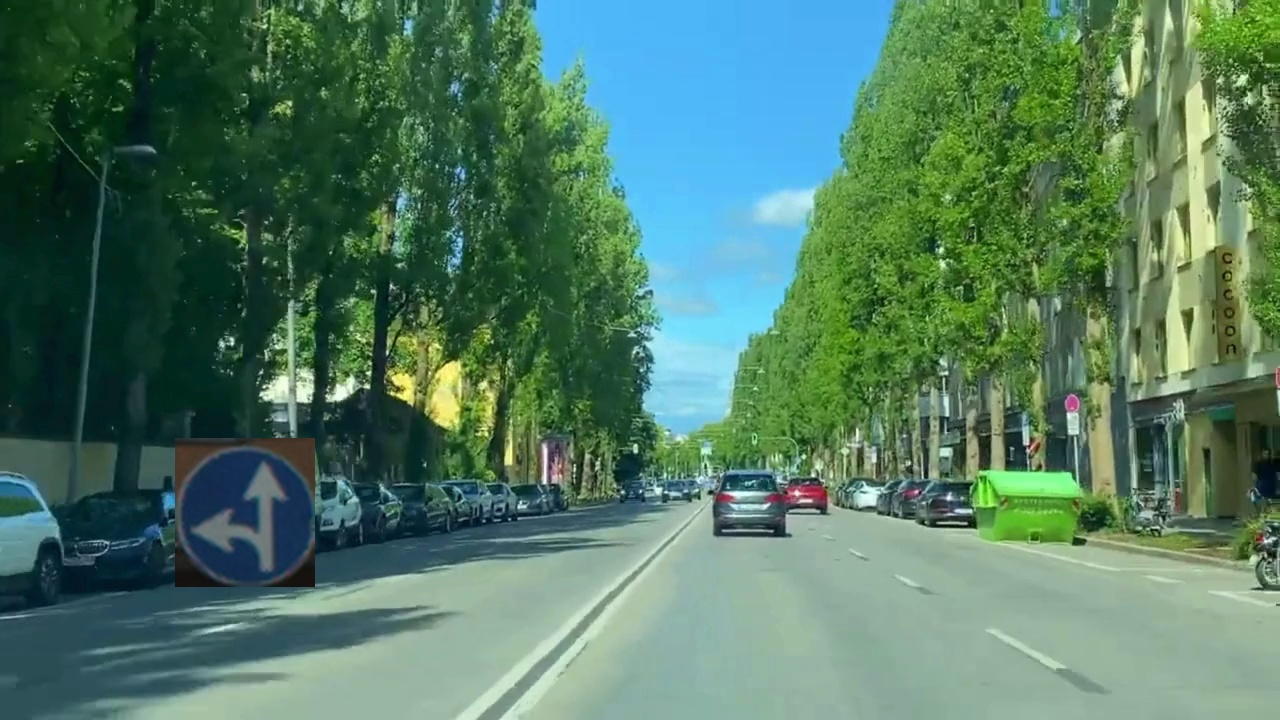Straight/left: (175, 438, 315, 587)
